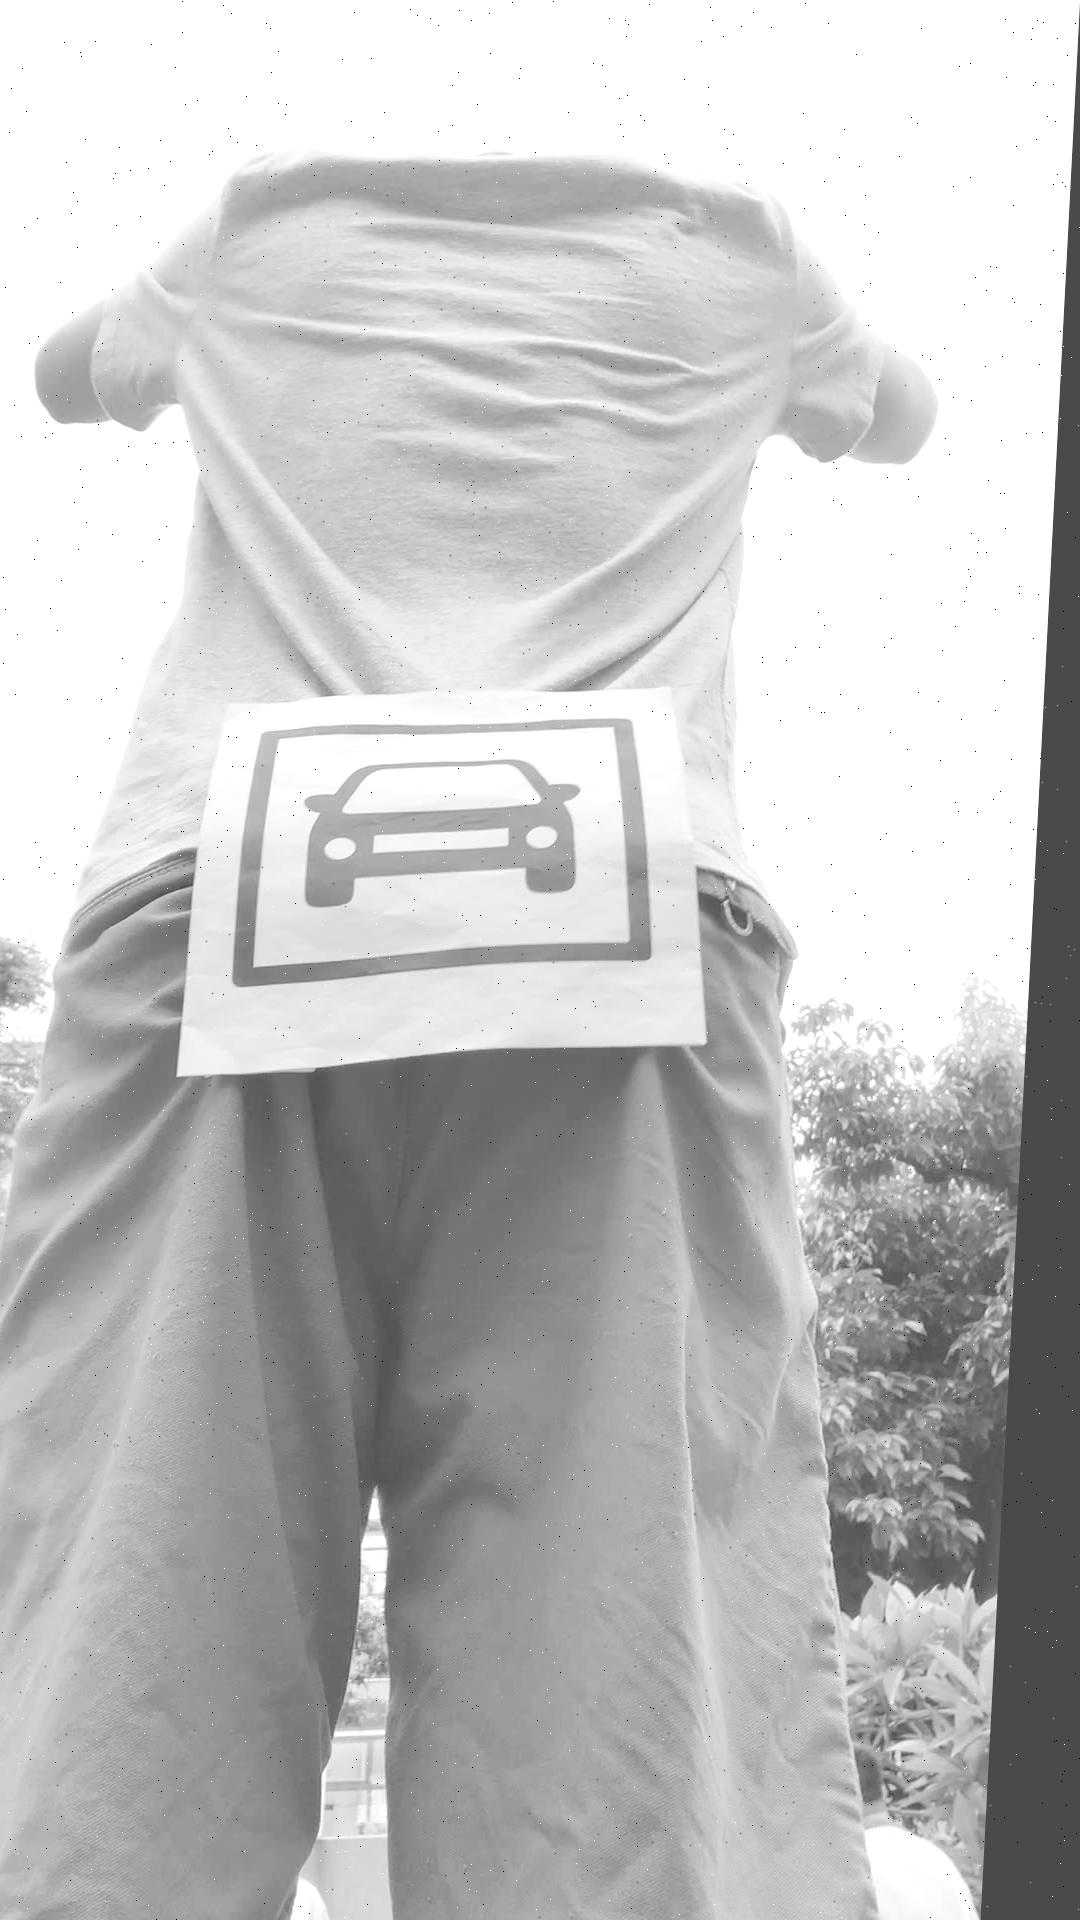car_img: (240, 716, 674, 988)
